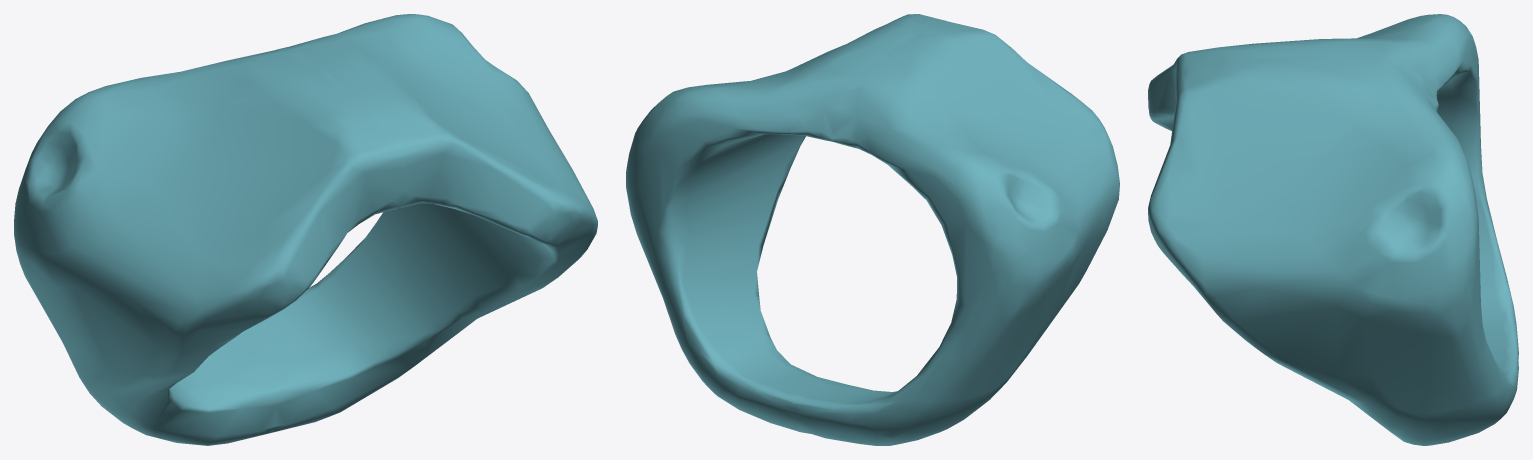
3 views of the same model, side by side, from view 1: azimuth 30°, elevation 25°; view 2: azimuth 150°, elevation 25°; view 3: azimuth 270°, elevation 25° (orthographic). The views are drawn at different scales.
Visible parts, largest first — view 1: 环状软骨; view 2: 环状软骨; view 3: 环状软骨.
Part boxes in pixels (box(x1,y1,x2,y2)): 环状软骨: box(14, 14, 597, 445); 环状软骨: box(626, 14, 1119, 445); 环状软骨: box(1148, 14, 1518, 445).
Bounding box in the file's own units: 0.0359 × 0.0278 × 0.0258.
